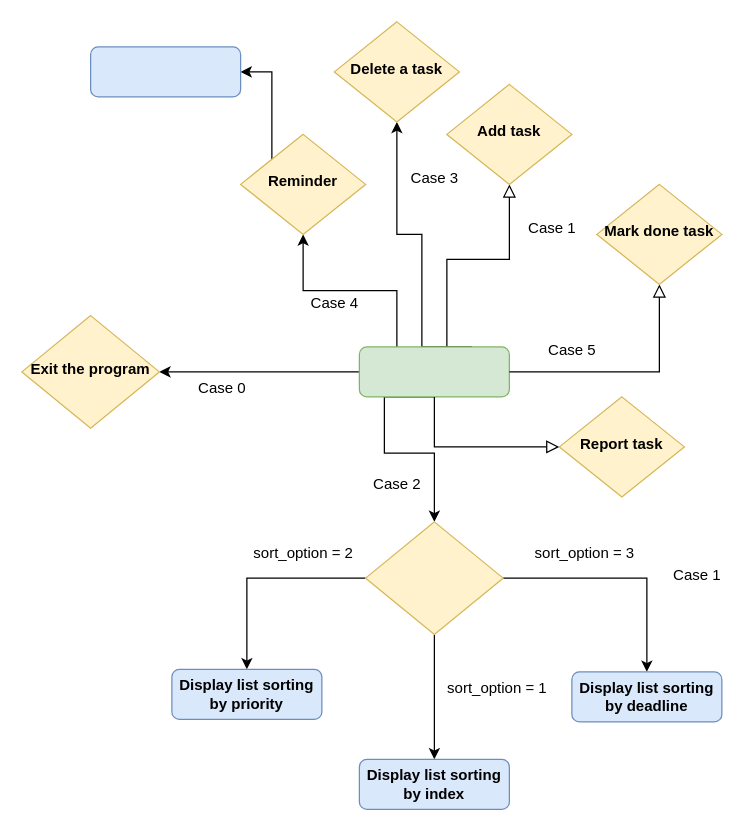
The diagram is 756 pixels wide and 831 high, and some of its shapes have lost their labels. Each missing label, with the box of its shape:
Display task list: (364, 521, 503, 634)
Display the current day tasks: (89, 46, 241, 97)
switch (option): (358, 346, 509, 397)
